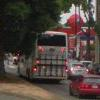Bus: (20, 25, 69, 86)
